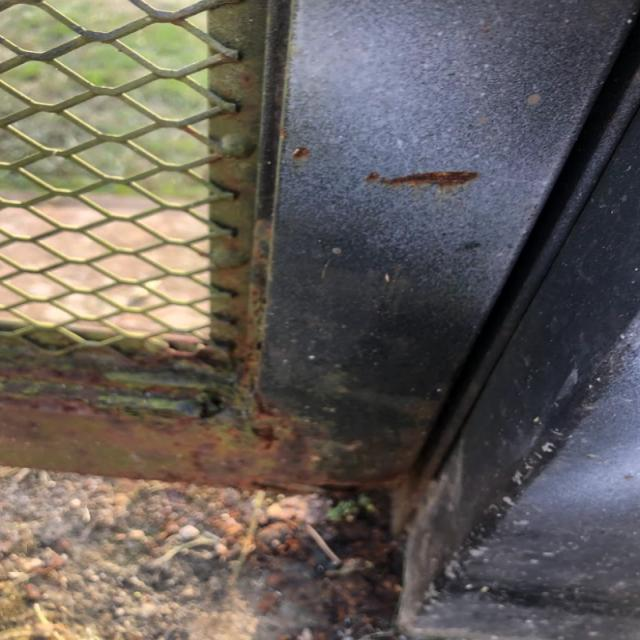Corrosion: (0, 221, 413, 504), (365, 167, 485, 191), (291, 145, 309, 161)
